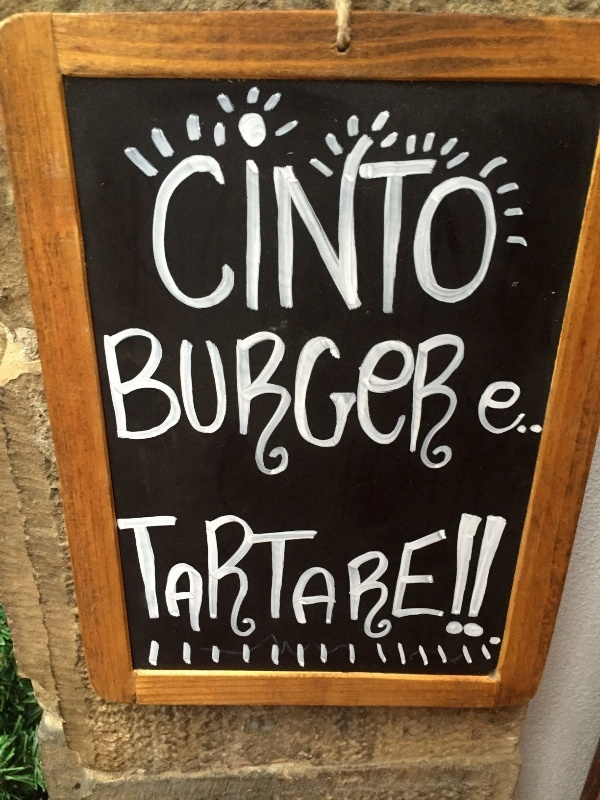text: (161, 113, 176, 317), (177, 113, 192, 317), (193, 113, 208, 317), (209, 113, 224, 317), (225, 113, 240, 317), (241, 113, 256, 317), (257, 113, 272, 317), (273, 113, 288, 317), (289, 113, 304, 317), (305, 113, 320, 317), (321, 113, 336, 317), (337, 113, 352, 317), (353, 113, 368, 317), (369, 113, 384, 317), (385, 113, 400, 317), (401, 113, 416, 317), (417, 113, 432, 317), (433, 113, 448, 317), (449, 113, 464, 317), (465, 113, 480, 317), (481, 113, 496, 317), (497, 113, 511, 317), (113, 330, 128, 481), (129, 330, 144, 481), (145, 330, 160, 481), (161, 330, 176, 481), (177, 330, 192, 481), (193, 330, 208, 481), (209, 330, 224, 481), (225, 330, 240, 481), (241, 330, 256, 481), (257, 330, 272, 481), (273, 330, 288, 481), (289, 330, 304, 481), (305, 330, 320, 481), (321, 330, 336, 481), (337, 330, 352, 481), (353, 330, 368, 481), (369, 330, 384, 481), (385, 330, 400, 481), (401, 330, 416, 481), (417, 330, 432, 481), (433, 330, 448, 481), (449, 330, 464, 481), (465, 330, 480, 481), (481, 330, 496, 481), (497, 330, 512, 481), (513, 330, 528, 481), (529, 330, 544, 481), (545, 330, 560, 481), (149, 113, 160, 317), (129, 514, 144, 645), (145, 514, 160, 645), (161, 514, 176, 645), (177, 514, 192, 645), (193, 514, 208, 645), (209, 514, 224, 645), (225, 514, 240, 645), (241, 514, 256, 645), (257, 514, 272, 645), (273, 514, 288, 645), (289, 514, 304, 645), (305, 514, 320, 645), (321, 514, 336, 645), (337, 514, 352, 645), (353, 514, 368, 645), (369, 514, 384, 645), (385, 514, 400, 645), (401, 514, 416, 645), (417, 514, 432, 645), (433, 514, 448, 645), (449, 514, 464, 645), (465, 514, 480, 645), (481, 514, 496, 645), (115, 514, 128, 645), (497, 514, 509, 645), (103, 330, 112, 481), (561, 330, 562, 481)
